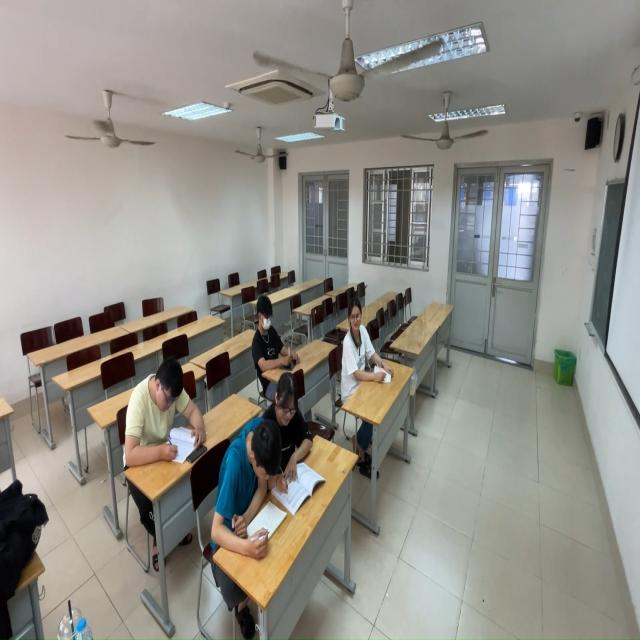read: (210, 412, 287, 555), (114, 343, 199, 472), (259, 370, 314, 492), (341, 301, 399, 403), (248, 295, 301, 374)
